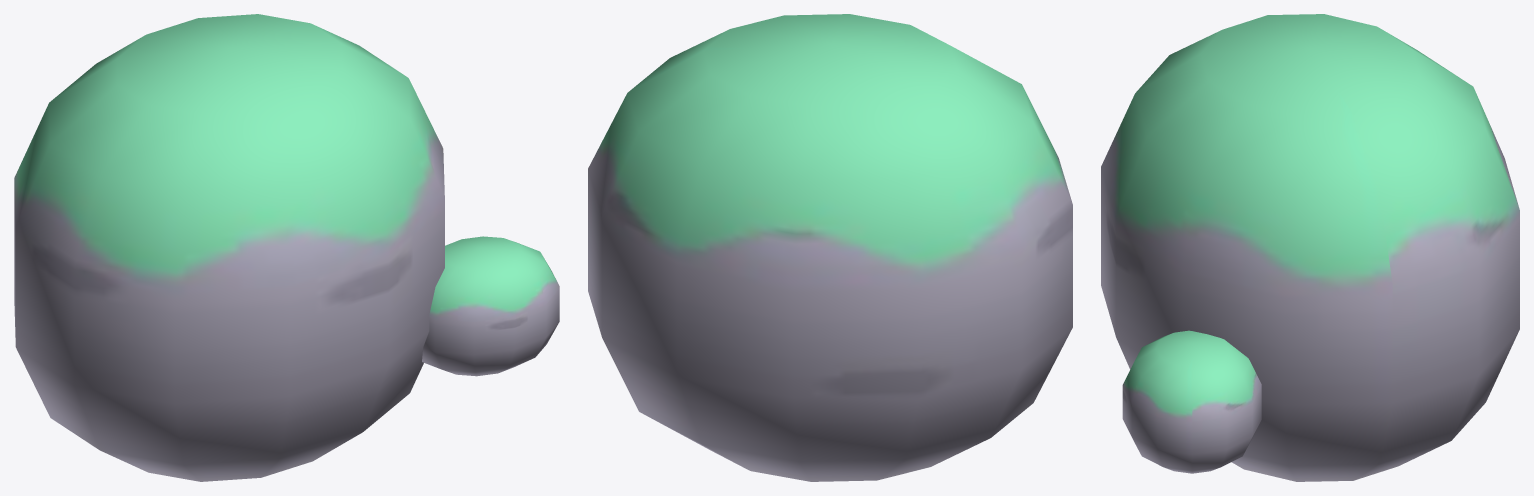
The model's file is rock_0.glb.
3 views of the same model, side by side, from view 1: azimuth 30°, elevation 25°; view 2: azimuth 150°, elevation 25°; view 3: azimuth 270°, elevation 25° (orthographic). The views are drawn at different scales.
Parts seen in each view (by area): view 1: rock_0; view 2: rock_0; view 3: rock_0.
Boxes of the visible parts, left/top/right/bottom form: rock_0: left=14, top=14, right=559, bottom=481; rock_0: left=588, top=14, right=1072, bottom=481; rock_0: left=1101, top=14, right=1519, bottom=481.
Size of the model in its own units: 3.16 by 2.6 by 2.48.
1 material, 1 textured.
